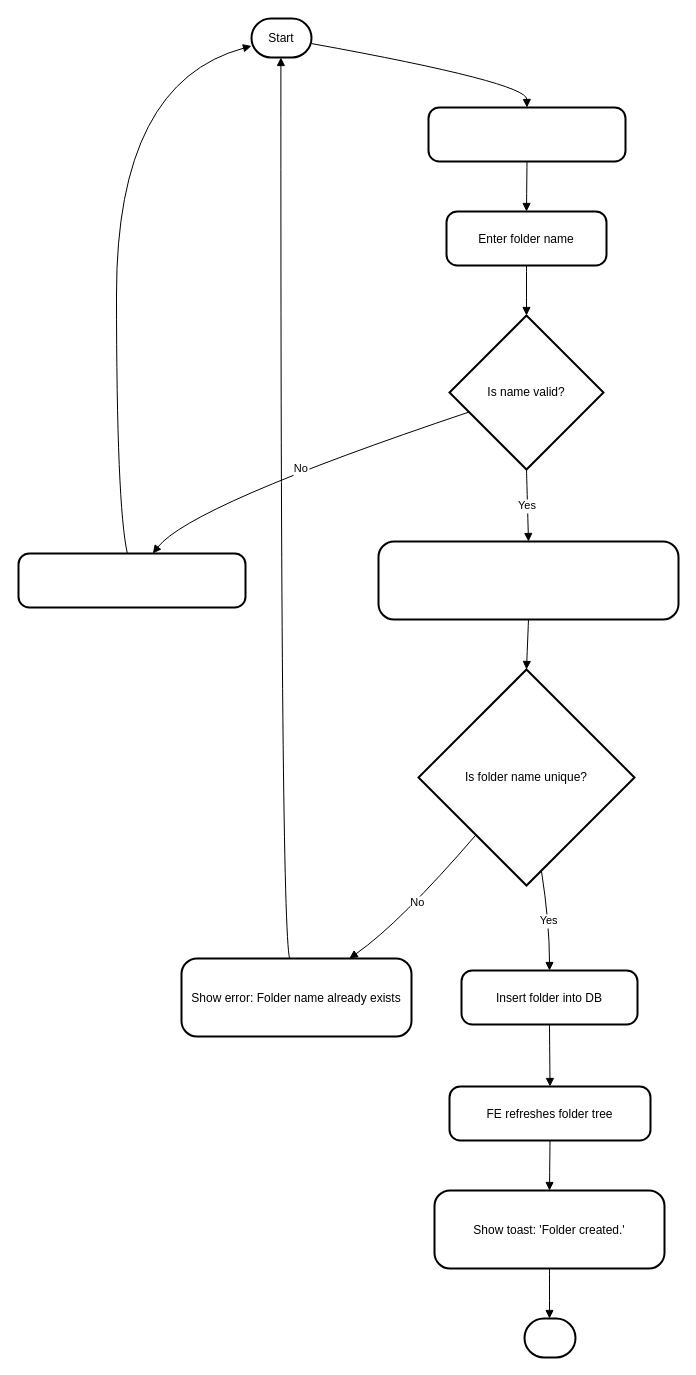
The diagram is 696 pixels wide and 1375 high, and some of its shapes have lost their labels. Each missing label, with the centre of its shape:
End: pixel 549 1337
Send request to API to check name uniqueness: pixel 528 580
Show error: Name is invalid: pixel 131 580
User clicks 'New Folder': pixel 526 134
